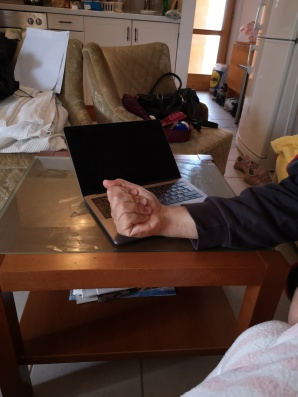A: (100, 171, 170, 244)
